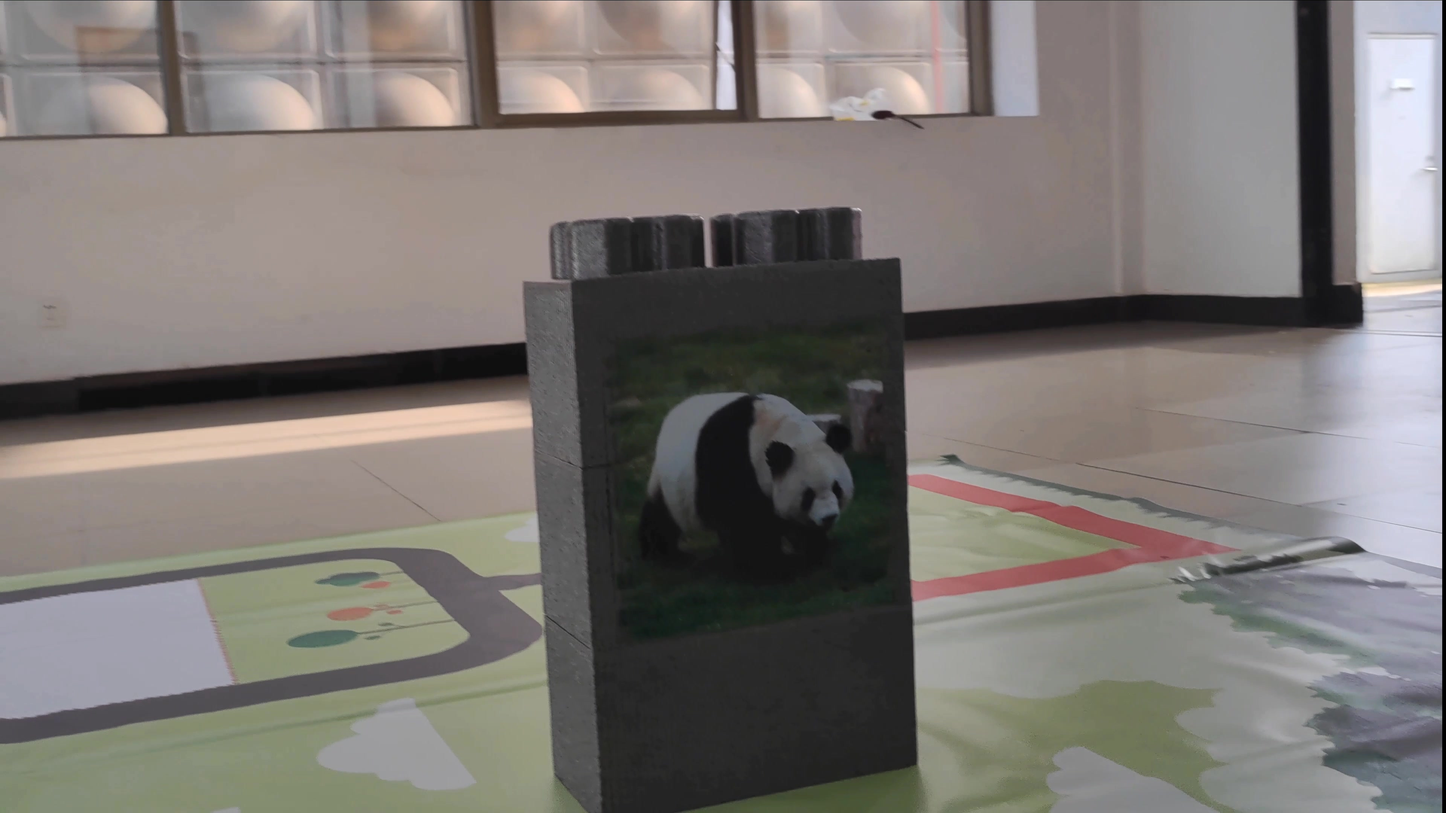panda: (618, 378, 874, 576)
